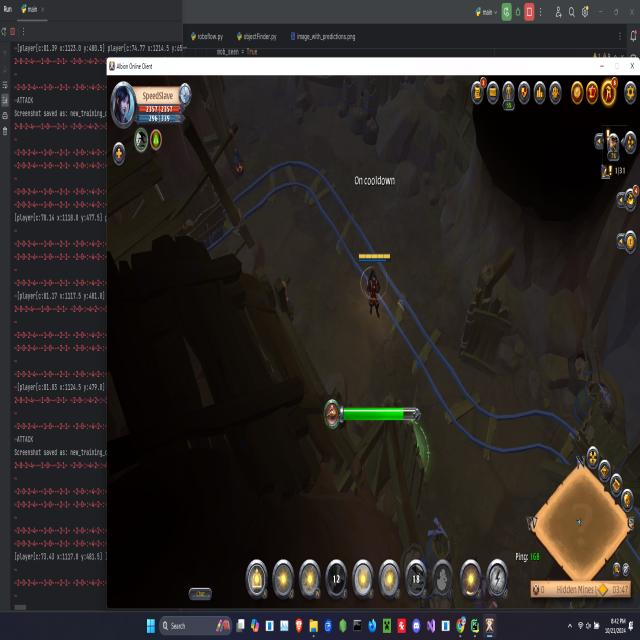red: (355, 248, 393, 323)
